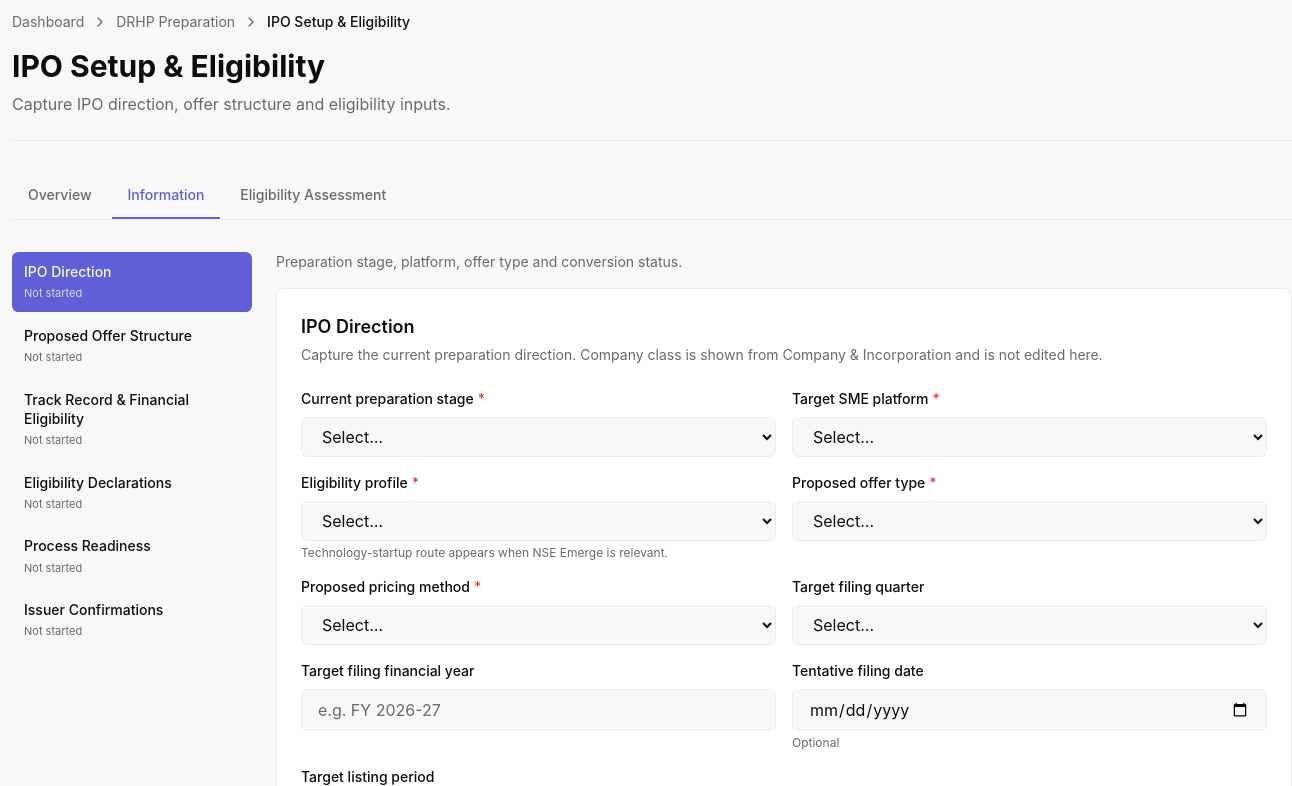
Test: IPO Setup workstream UI (I2 persistence) › toggles fresh/OFS fields and declaration details
Later steps or results of the test are not shown.
Select "Fresh issue" in the dropdown labelled "Proposed offer type*": {"x": 1030, "y": 521} [792, 501, 1267, 541]
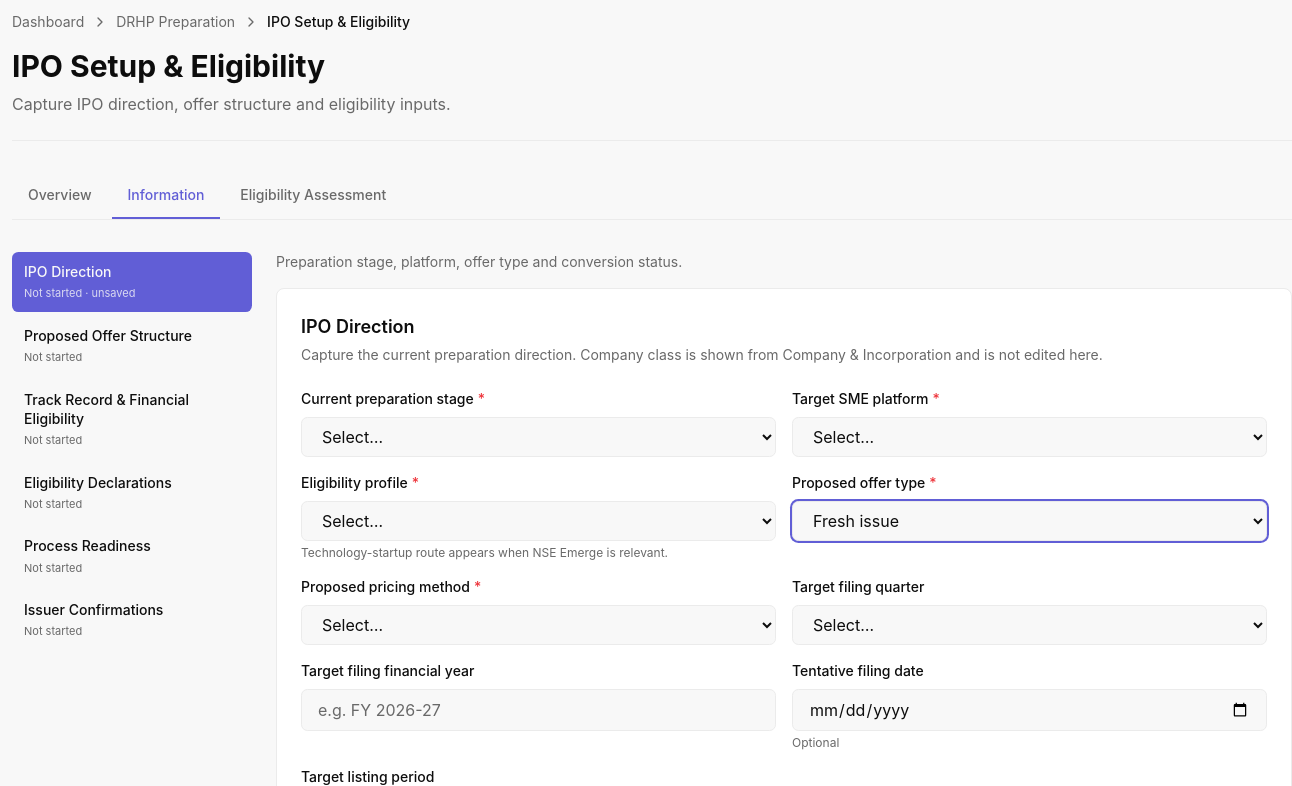
Click the button "Proposed Offer Structure Not started": {"x": 132, "y": 346} [12, 316, 252, 376]
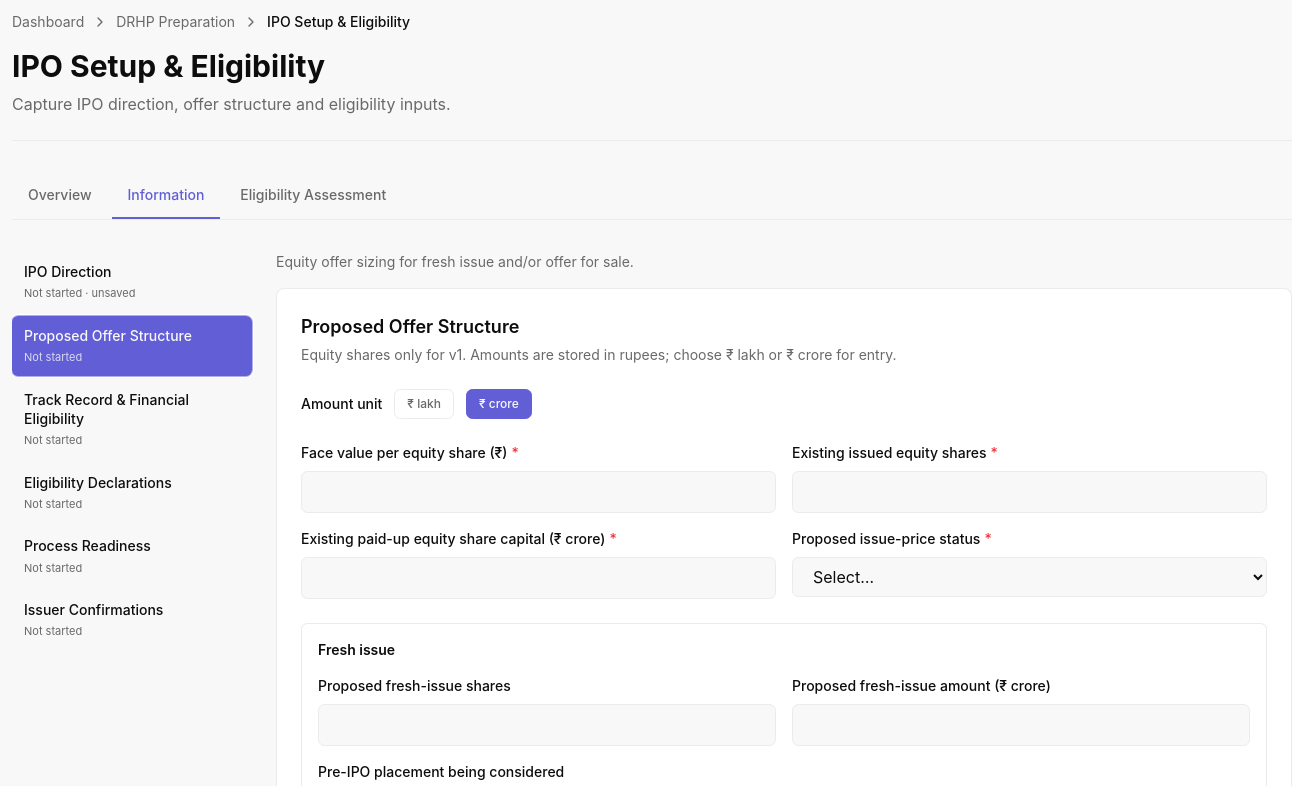
Click the button "Eligibility Declarations Not started": {"x": 132, "y": 492} [12, 462, 252, 522]
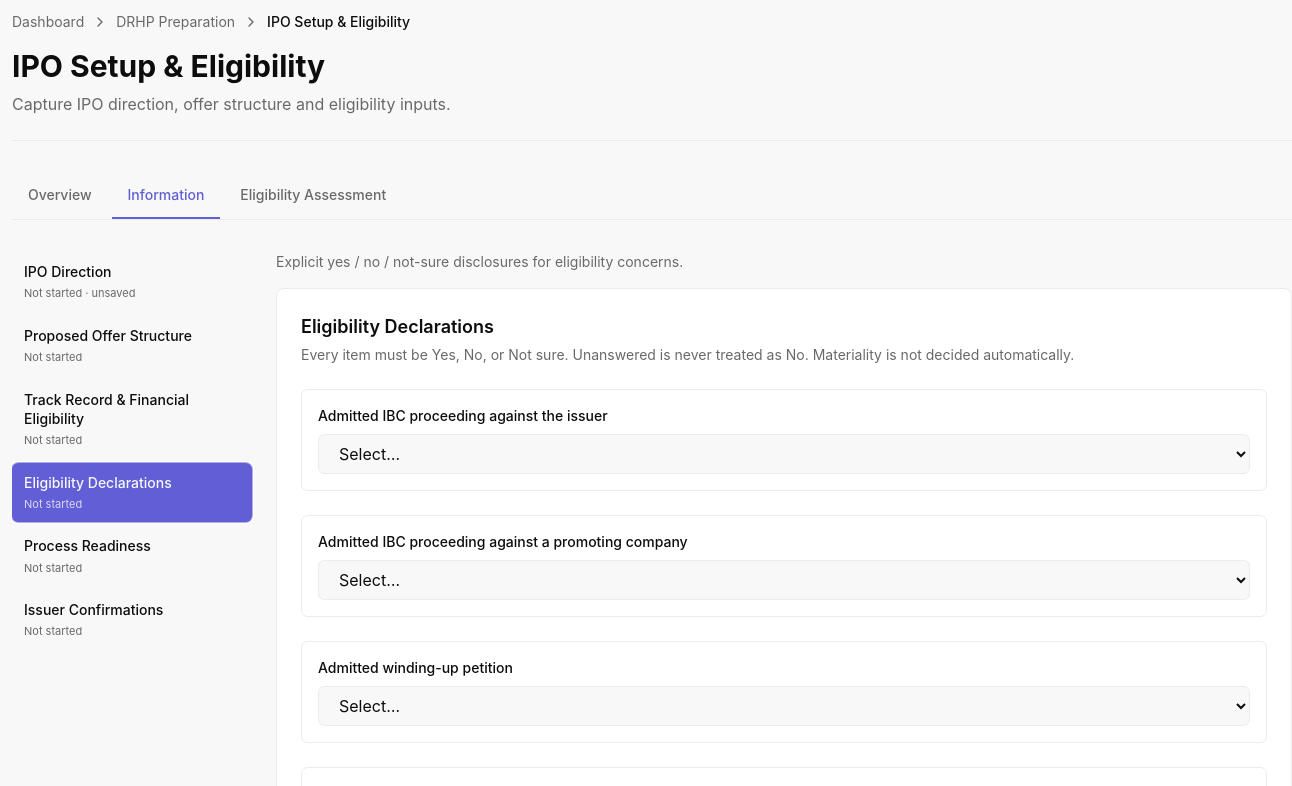
expect the dropdown labelled "Admitted IBC proceeding against the issuer" shows "Select…": met, box [318, 434, 1250, 474]
